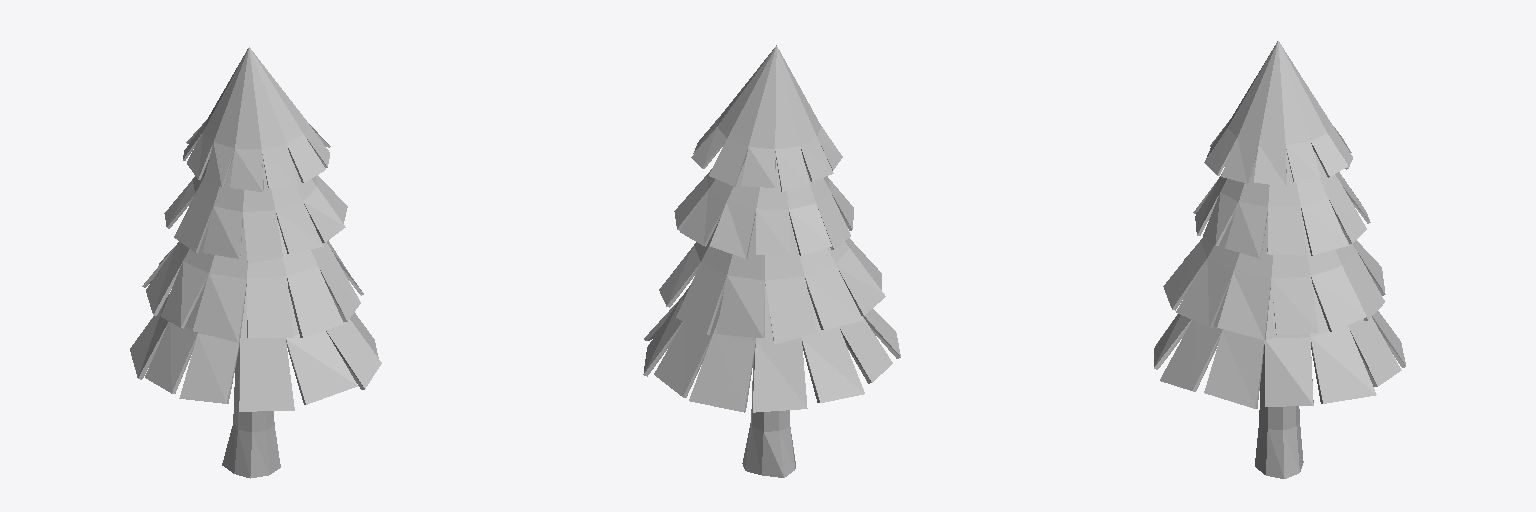
Rendered from Arbol.obj.
3 renders of one model, left to right at view 1: azimuth 30°, elevation 25°; view 2: azimuth 150°, elevation 25°; view 3: azimuth 270°, elevation 25°, orthographic.
Visible parts, largest first — view 1: Env_GRP_Models_SnowScene_Tree5; view 2: Env_GRP_Models_SnowScene_Tree5; view 3: Env_GRP_Models_SnowScene_Tree5.
Part boxes in pixels (bbox=[...]): Env_GRP_Models_SnowScene_Tree5: bbox=[130, 47, 381, 478]; Env_GRP_Models_SnowScene_Tree5: bbox=[643, 45, 900, 477]; Env_GRP_Models_SnowScene_Tree5: bbox=[1154, 41, 1405, 478].
Size of the model in its own units: 10.24 by 19.26 by 10.41.